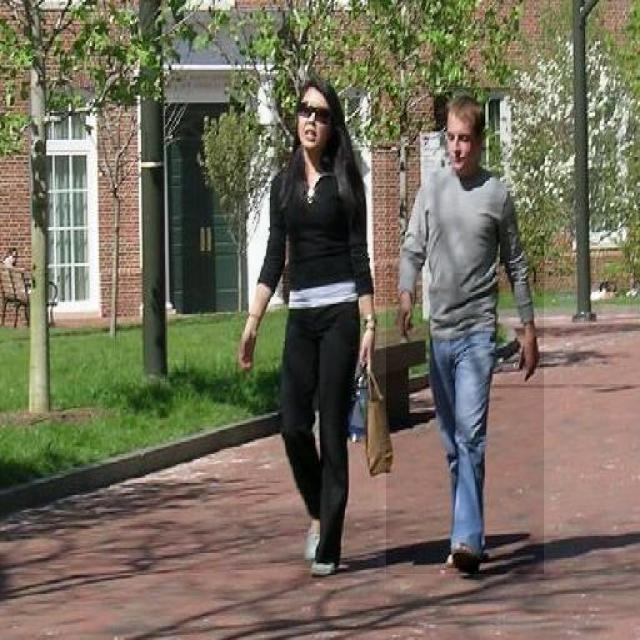with scooter: (386, 88, 544, 574), (236, 78, 378, 584)
